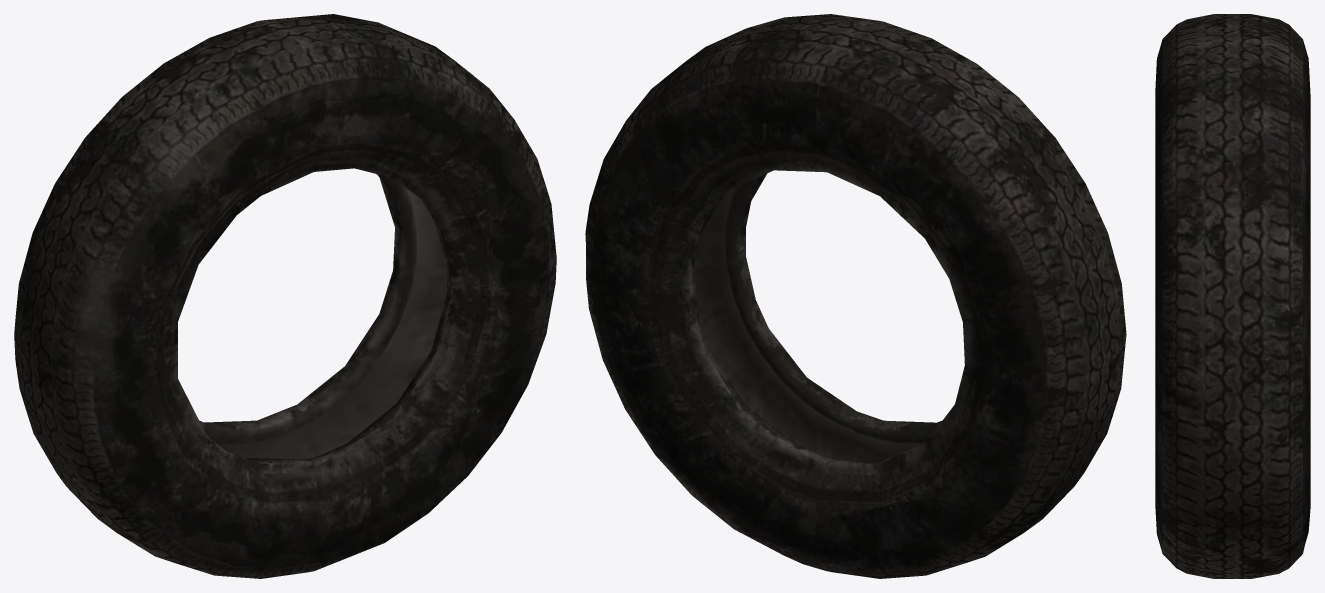
The model's file is old_tyre.glb.
3 renders of one model, left to right at view 1: azimuth 30°, elevation 25°; view 2: azimuth 150°, elevation 25°; view 3: azimuth 270°, elevation 25°, orthographic. The views are drawn at different scales.
Parts seen in each view (by area): view 1: old_tyre; view 2: old_tyre; view 3: old_tyre.
Boxes of the visible parts, x1,y1,x2,y2 form: old_tyre: (14,14,556,578); old_tyre: (585,14,1126,578); old_tyre: (1155,14,1310,578).
Size of the model in its own units: 0.6 by 0.6 by 0.165.
1 material, 1 textured.
